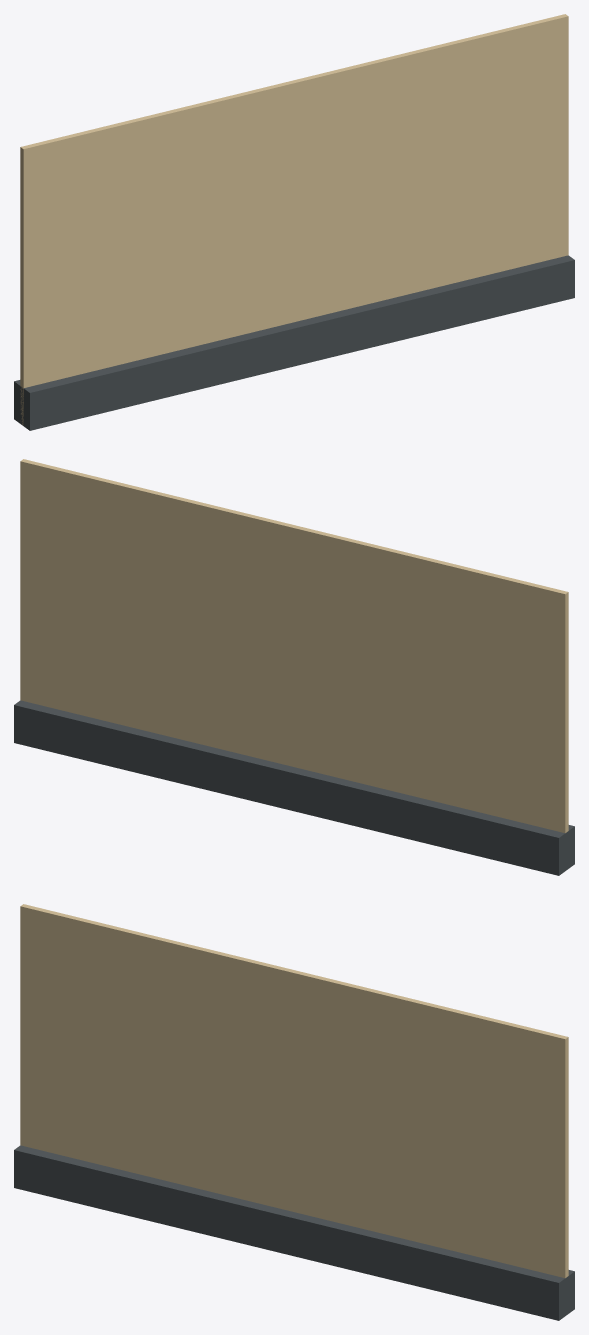
Rendered from Wall_08.fbx.
The picture shows the model from 3 angles, top to bottom: view 1: azimuth 30°, elevation 25°; view 2: azimuth 150°, elevation 25°; view 3: azimuth 330°, elevation 25°; orthographic projection.
Visible parts, largest first — view 1: Wall_08; view 2: Wall_08; view 3: Wall_08.
Boxes of the visible parts, box(x1,y1,x2,y2) form: Wall_08: box(14, 14, 574, 430); Wall_08: box(14, 459, 574, 875); Wall_08: box(14, 904, 574, 1320).
Size of the model in its own units: 5.75 by 2.79 by 0.2921.
